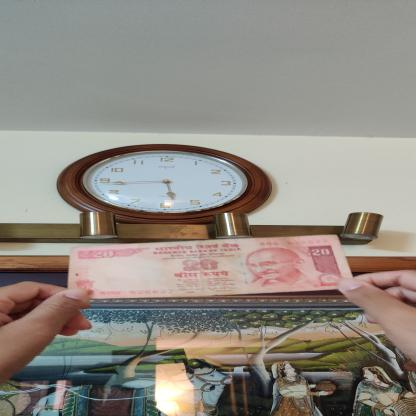Old20Front: (66, 234, 352, 300)
